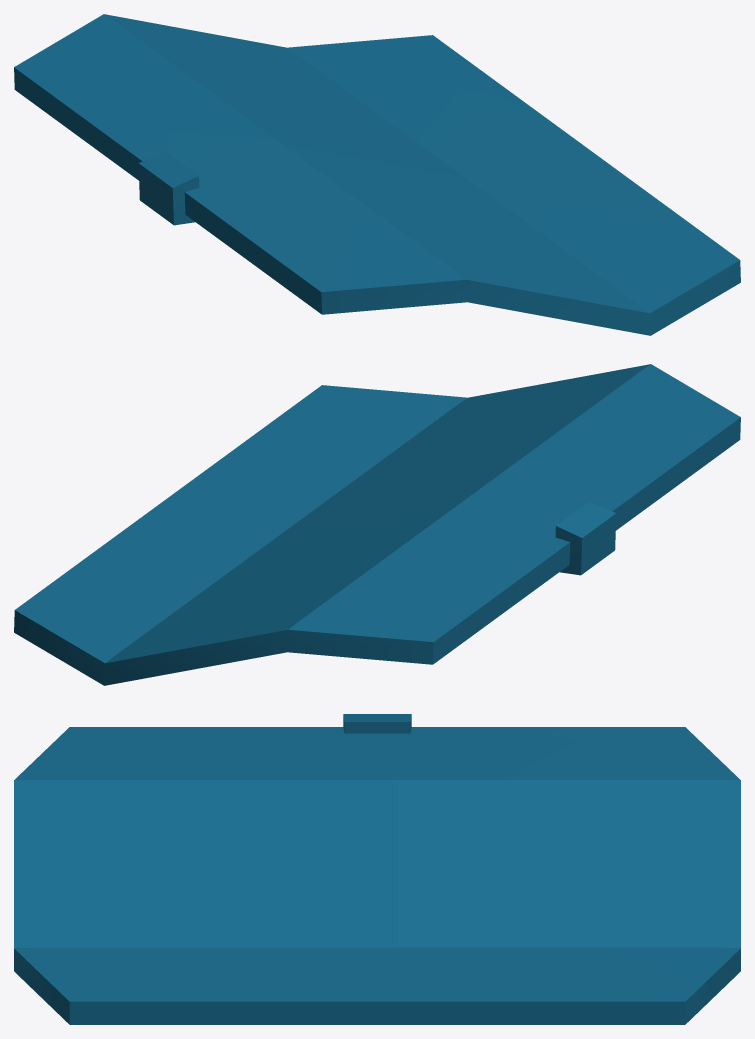
The model's file is Conteiner_Tapa.fbx.
3 views of the same model, one above another, from view 1: azimuth 30°, elevation 25°; view 2: azimuth 150°, elevation 25°; view 3: azimuth 270°, elevation 25° (orthographic).
Parts seen in each view (by area): view 1: Conteiner_Tapa; view 2: Conteiner_Tapa; view 3: Conteiner_Tapa.
Boxes of the visible parts, x1,y1,x2,y2 form: Conteiner_Tapa: [14, 14, 740, 335]; Conteiner_Tapa: [14, 364, 740, 685]; Conteiner_Tapa: [14, 714, 740, 1024].
Size of the model in its own units: 630 by 152 by 918.
